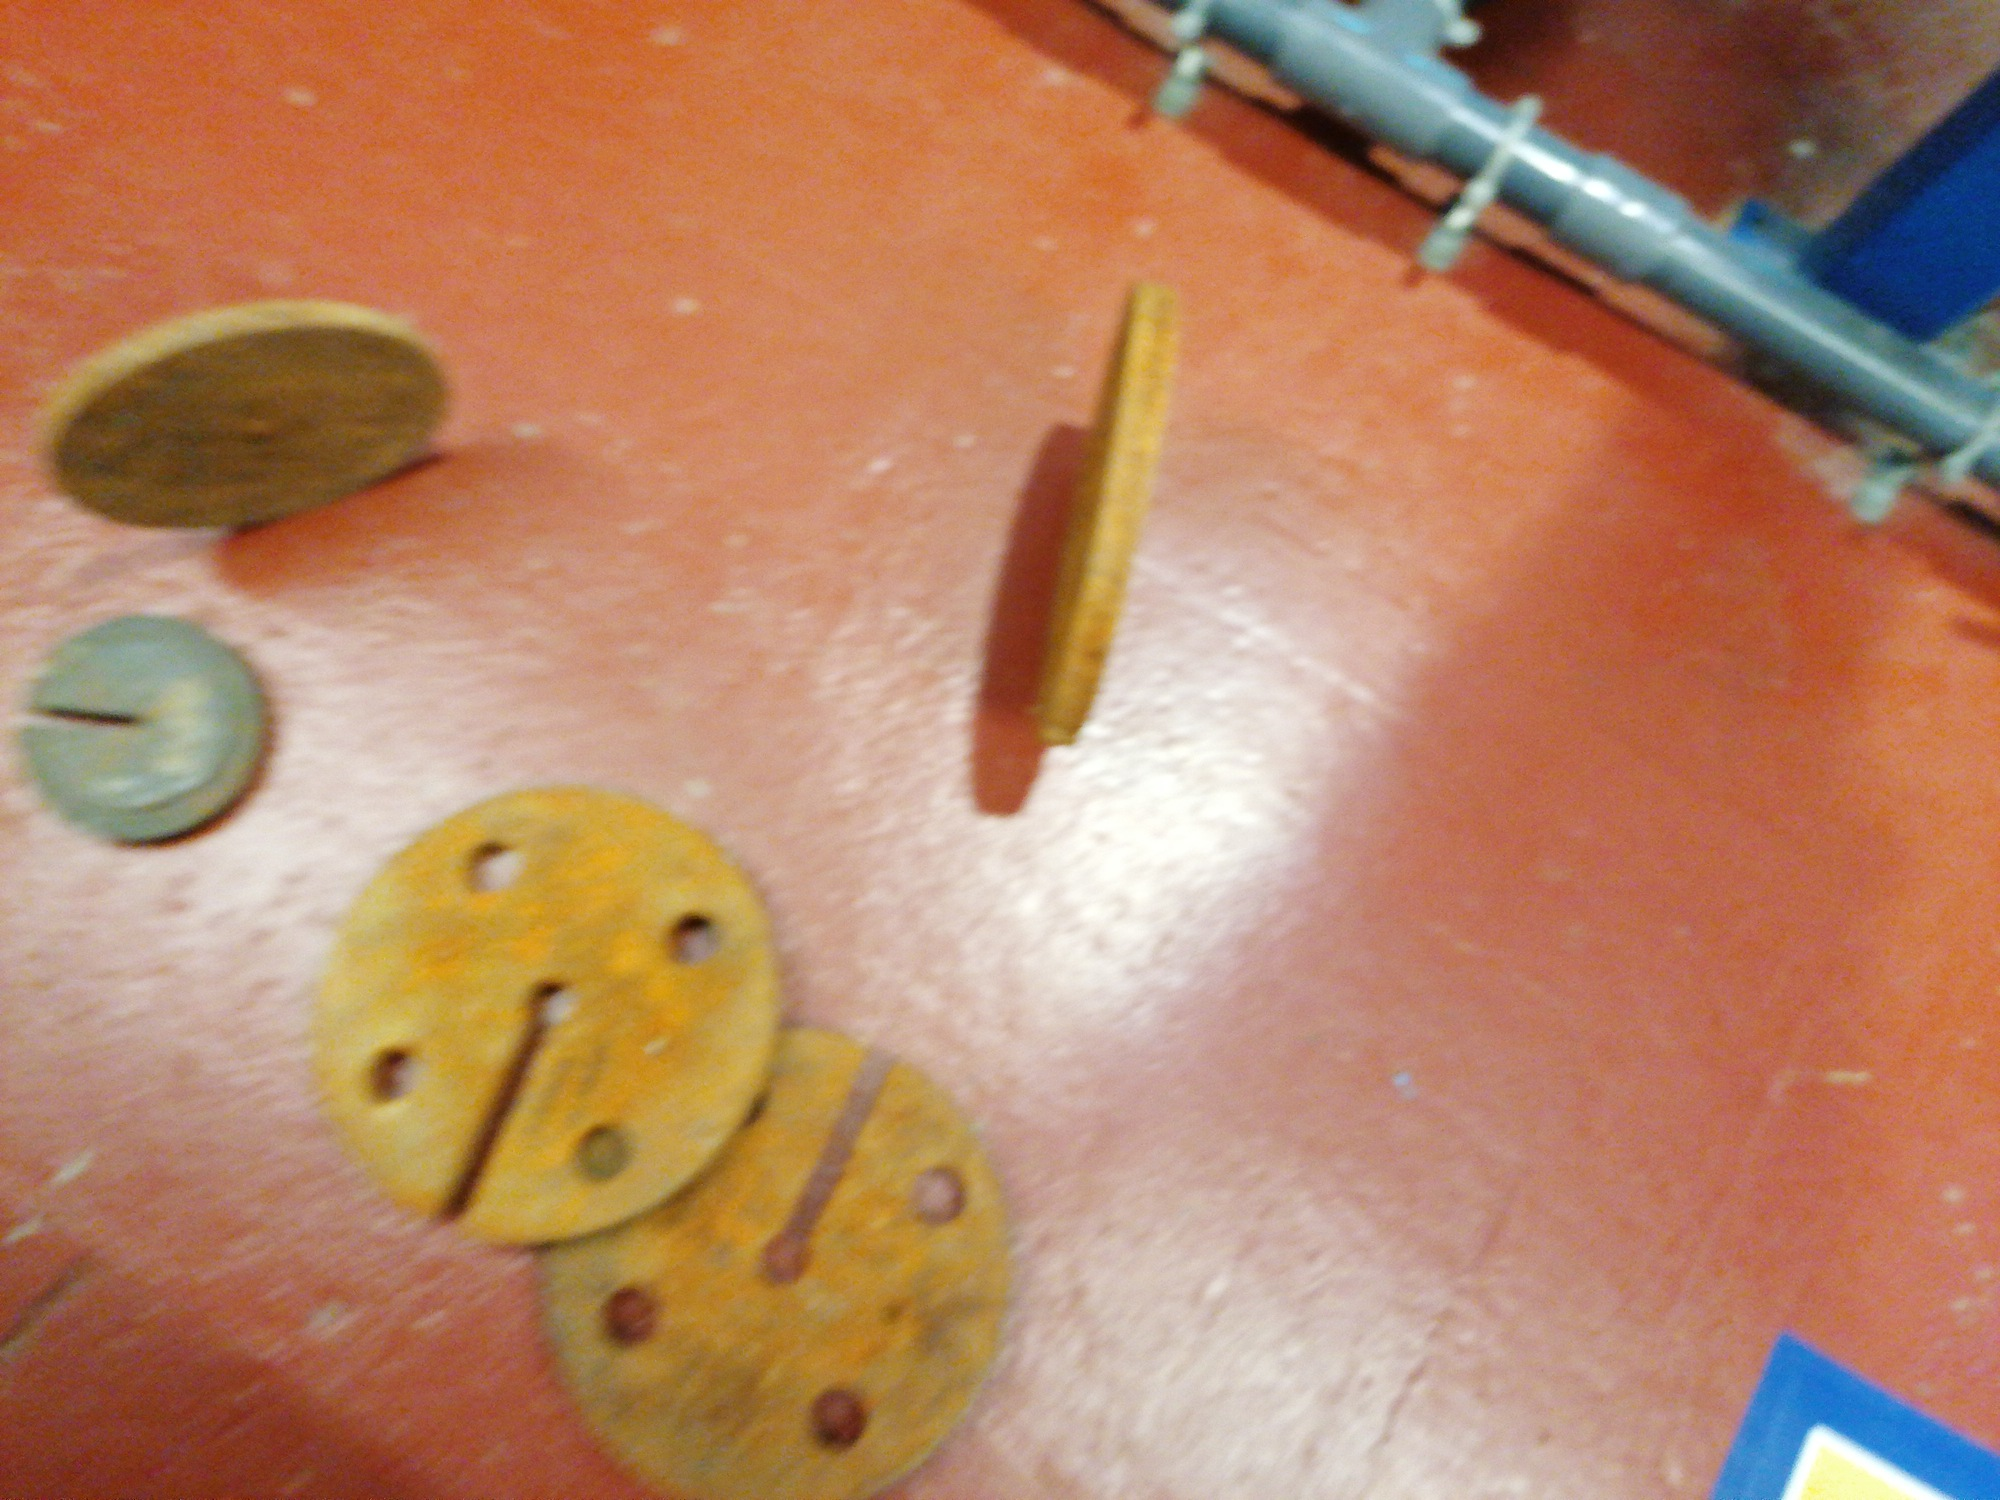flange: (535, 1024, 1014, 1498), (304, 782, 780, 1246), (43, 299, 447, 533), (1028, 279, 1180, 753), (20, 607, 271, 848)
